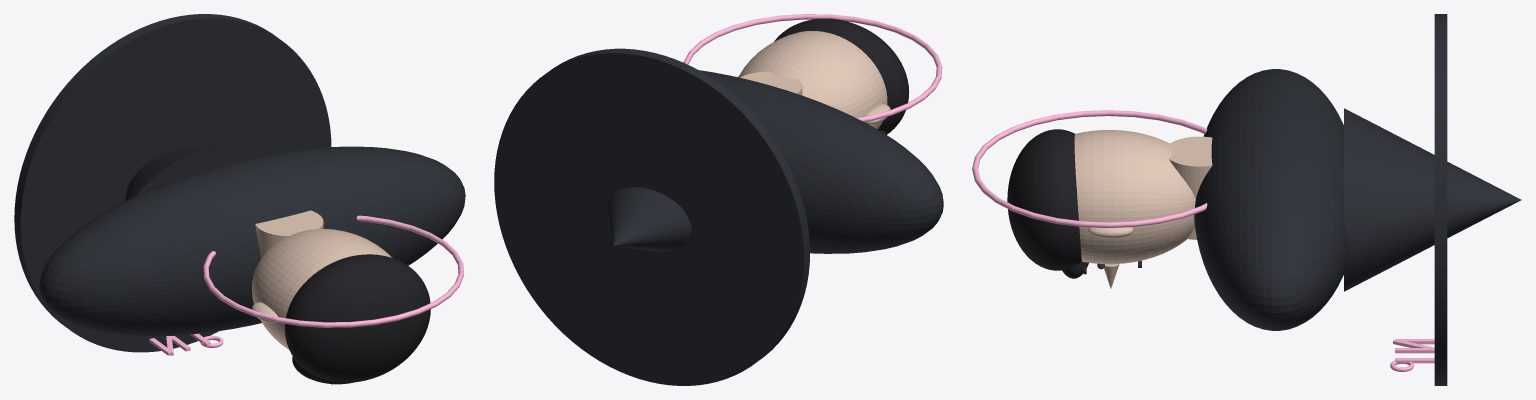
File: nick-ai-avatar.glb
3 views of the same model, side by side, from view 1: azimuth 30°, elevation 25°; view 2: azimuth 150°, elevation 25°; view 3: azimuth 270°, elevation 25° (orthographic). The views are drawn at different scales.
Visible parts, largest first — view 1: broad charcoal shoulders, matte pedestal, matte swept hair mass, stylized head, minimal torso taper, soft pink assistant halo, neck; view 2: matte pedestal, broad charcoal shoulders, stylized head, minimal torso taper, matte swept hair mass, soft pink assistant halo, neck; view 3: broad charcoal shoulders, minimal torso taper, stylized head, matte swept hair mass, matte pedestal, soft pink assistant halo, neck.
Part boxes in pixels (bbox=[...]): broad charcoal shoulders: bbox=[39, 146, 465, 336]; matte pedestal: bbox=[14, 14, 331, 352]; matte swept hair mass: bbox=[284, 254, 430, 382]; stylized head: bbox=[252, 229, 392, 349]; minimal torso taper: bbox=[125, 140, 295, 200]; soft pink assistant halo: bbox=[203, 215, 463, 327]; neck: bbox=[255, 210, 323, 257]; matte pedestal: bbox=[494, 48, 809, 385]; broad charcoal shoulders: bbox=[699, 70, 943, 253]; stylized head: bbox=[738, 30, 887, 129]; minimal torso taper: bbox=[606, 187, 691, 251]; matte swept hair mass: bbox=[774, 18, 909, 134]; soft pink assistant halo: bbox=[683, 14, 942, 122]; neck: bbox=[740, 71, 802, 95]; broad charcoal shoulders: bbox=[1194, 69, 1348, 330]; minimal torso taper: bbox=[1344, 108, 1521, 291]; stylized head: bbox=[1074, 130, 1195, 264]; matte swept hair mass: bbox=[1007, 129, 1081, 270]; matte pedestal: bbox=[1434, 14, 1447, 385]; soft pink assistant halo: bbox=[972, 110, 1207, 228]; neck: bbox=[1169, 136, 1212, 239].
Size of the model in its own units: 3.1 by 2.3 by 3.4.
